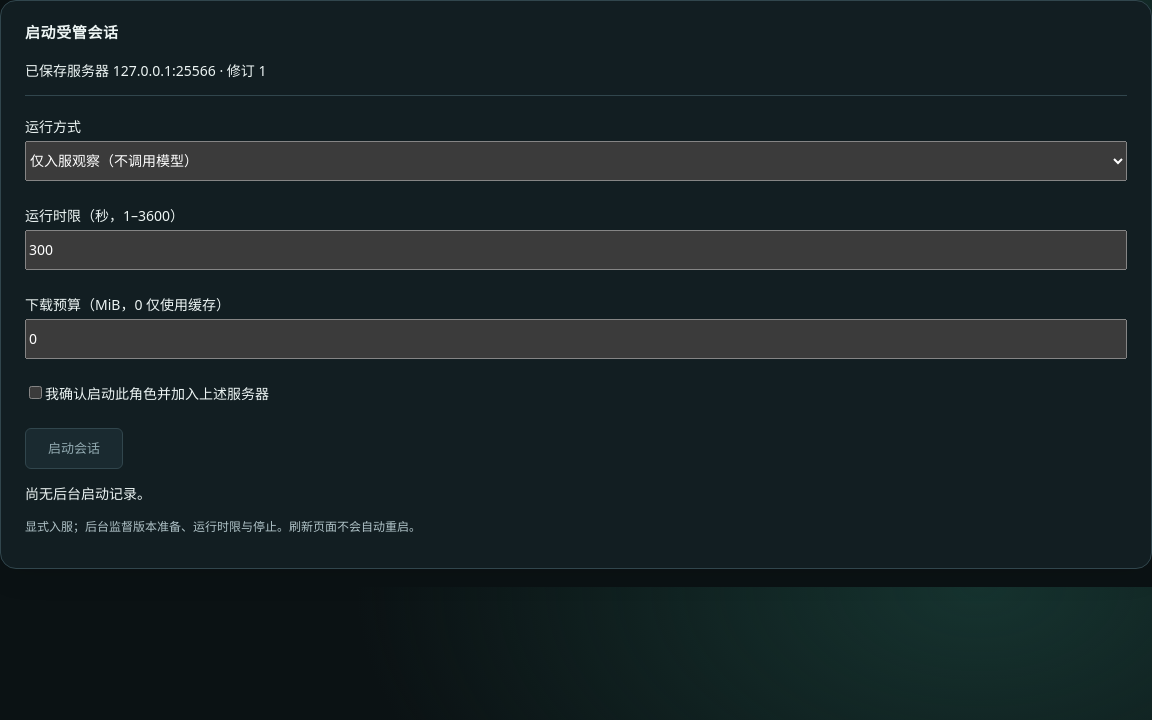
受管启动 › 只在显式确认后发出有界请求，模拟适配器拒绝真实启动
Expected: the button with test id "session-start-submit" is disabled, [25,428,123,469]
Click the checkbox with test id "session-start-confirm". click: (36, 392)
box: [29,386,42,398]
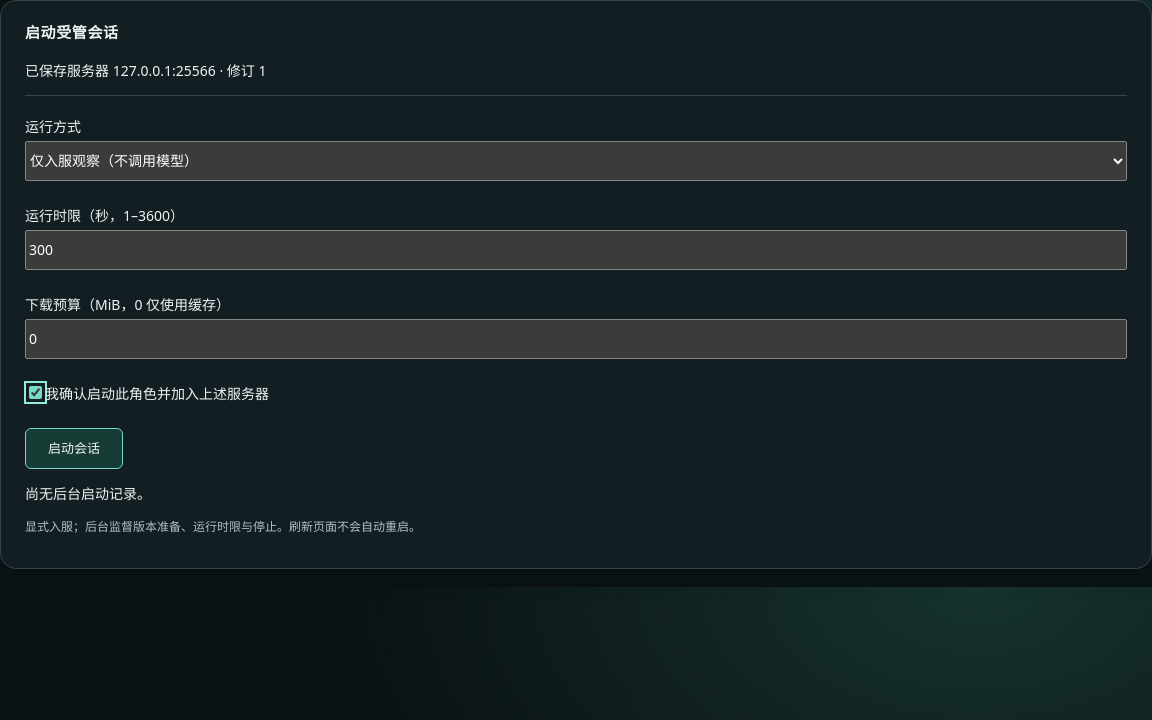
Click the button with test id "session-start-submit". click: (74, 448)
box: [25,428,123,469]
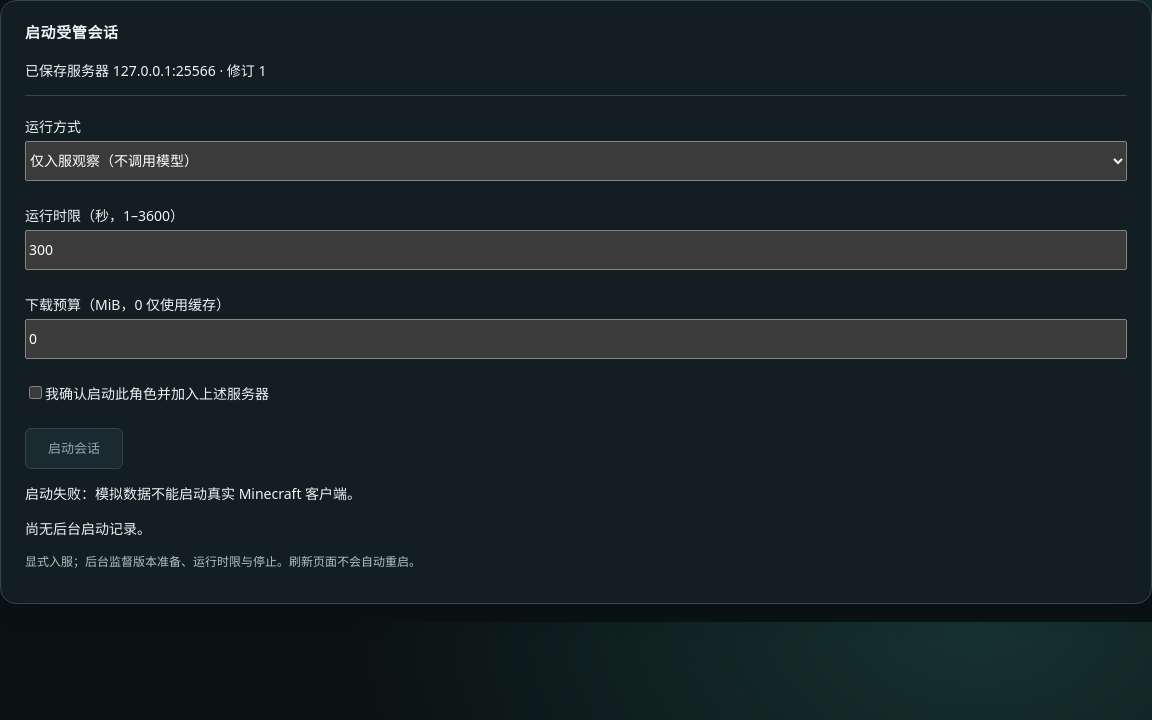
Expected: the message with test id "session-start-result" shows "模拟数据不能启动真实 Minecraft 客户端", [25,484,361,503]
